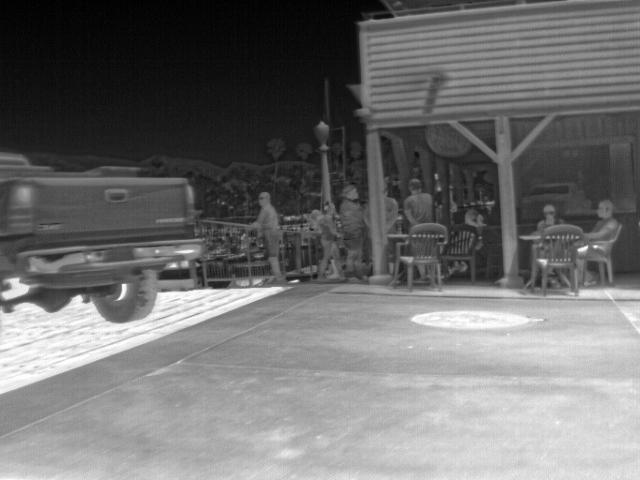car: (1, 148, 208, 324)
person: (255, 189, 290, 285), (339, 181, 369, 280), (314, 206, 342, 283), (582, 198, 624, 246), (405, 178, 435, 234), (532, 203, 568, 238), (459, 208, 486, 234), (387, 194, 402, 234)
